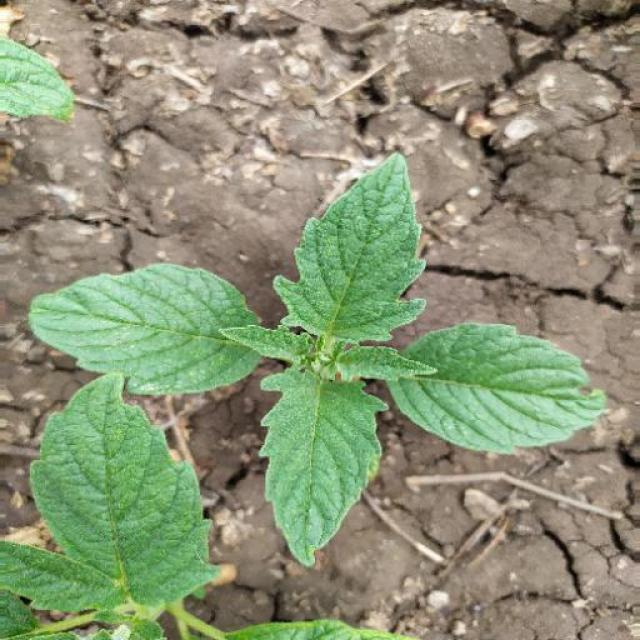crop: (32, 159, 604, 571)
